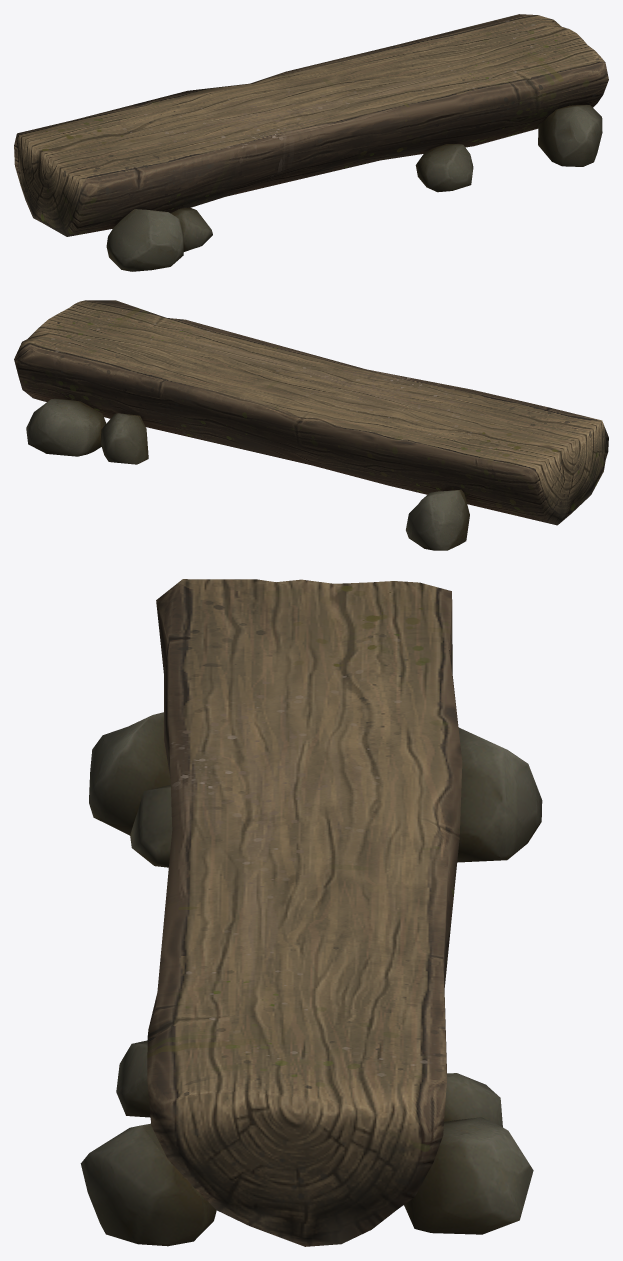
Rendered from MSH_fwOF_Camp_Bench.fbx.
3 views of the same model, one above another, from view 1: azimuth 30°, elevation 25°; view 2: azimuth 150°, elevation 25°; view 3: azimuth 270°, elevation 25° (orthographic). The views are drawn at different scales.
Visible parts, largest first — view 1: MSH_fwOF_Camp_Bench_LOD0; view 2: MSH_fwOF_Camp_Bench_LOD0; view 3: MSH_fwOF_Camp_Bench_LOD0.
Part boxes in pixels (box(x1,y1,x2,y2)): MSH_fwOF_Camp_Bench_LOD0: box(14, 14, 608, 271); MSH_fwOF_Camp_Bench_LOD0: box(14, 300, 608, 550); MSH_fwOF_Camp_Bench_LOD0: box(80, 579, 542, 1246).
Size of what is drawn, in the model's own units: 2.27 by 0.3718 by 0.8516.
